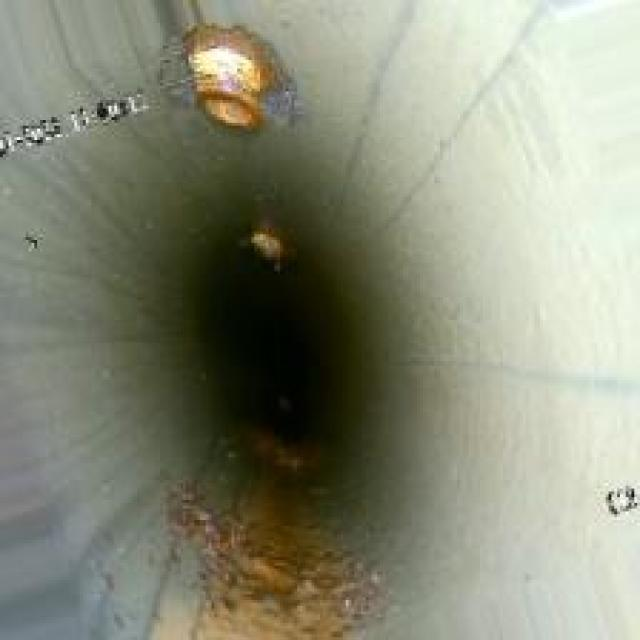ferrule: (177, 15, 300, 134), (237, 214, 294, 274)
